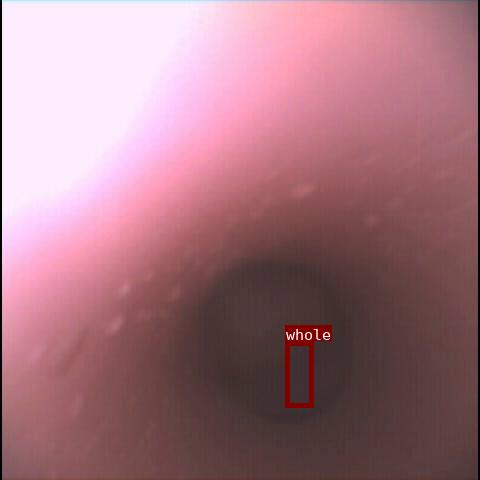whole: (285, 341, 313, 407)
